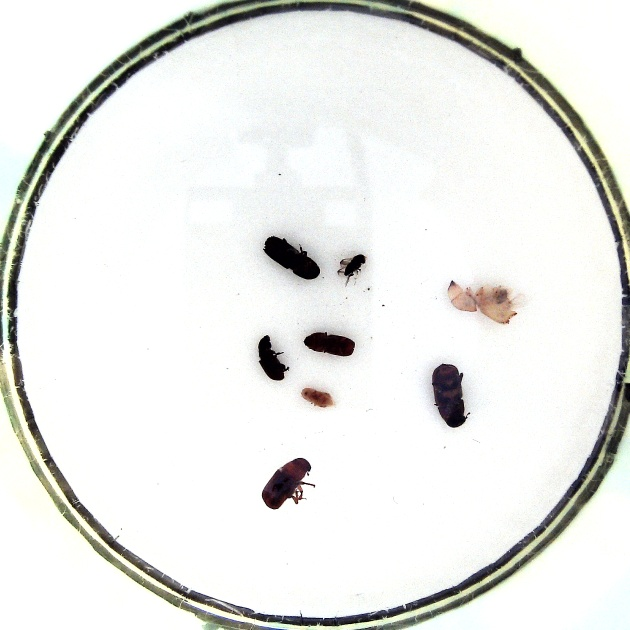acuminatus: (297, 385, 335, 408)
armandi: (256, 333, 289, 382)
boerner: (445, 277, 524, 324), (262, 234, 321, 282)
coleoptera: (334, 253, 369, 285)
leconte: (259, 456, 315, 511), (431, 359, 471, 427)
linnaeus: (303, 330, 357, 358)
